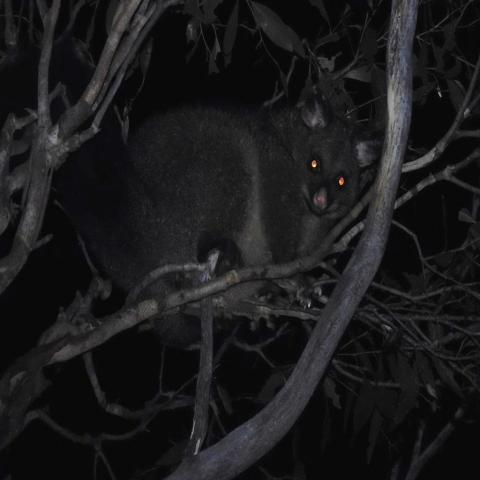small_animal: (59, 83, 386, 326)
